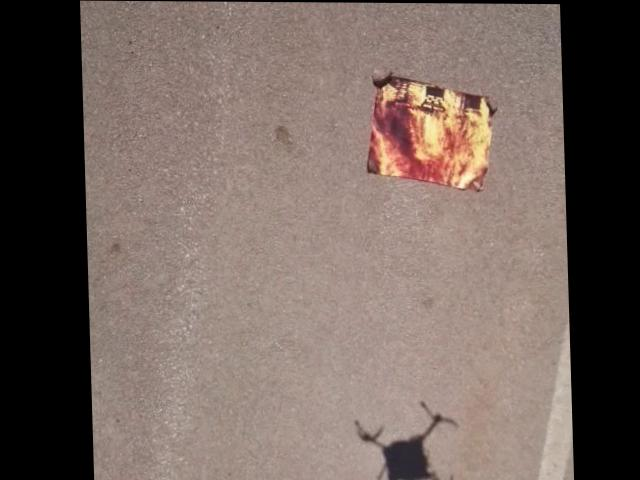fire-poster: (361, 70, 500, 192)
